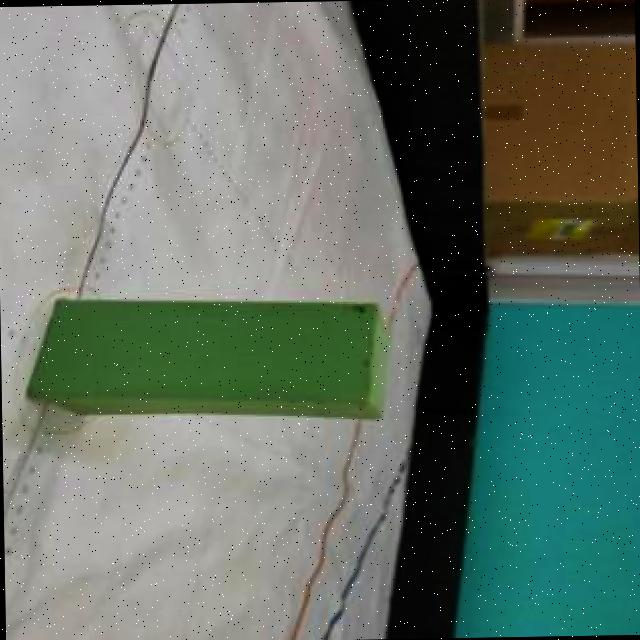greenbox: (24, 290, 393, 426)
